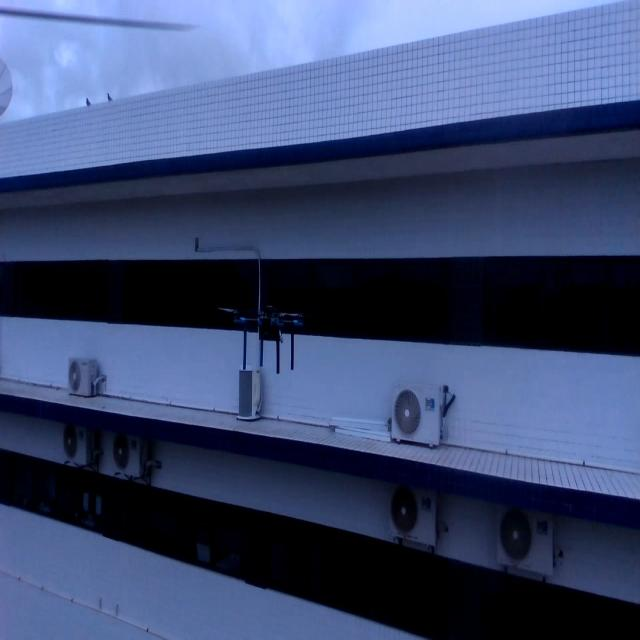-uav-: (216, 286, 312, 388)
